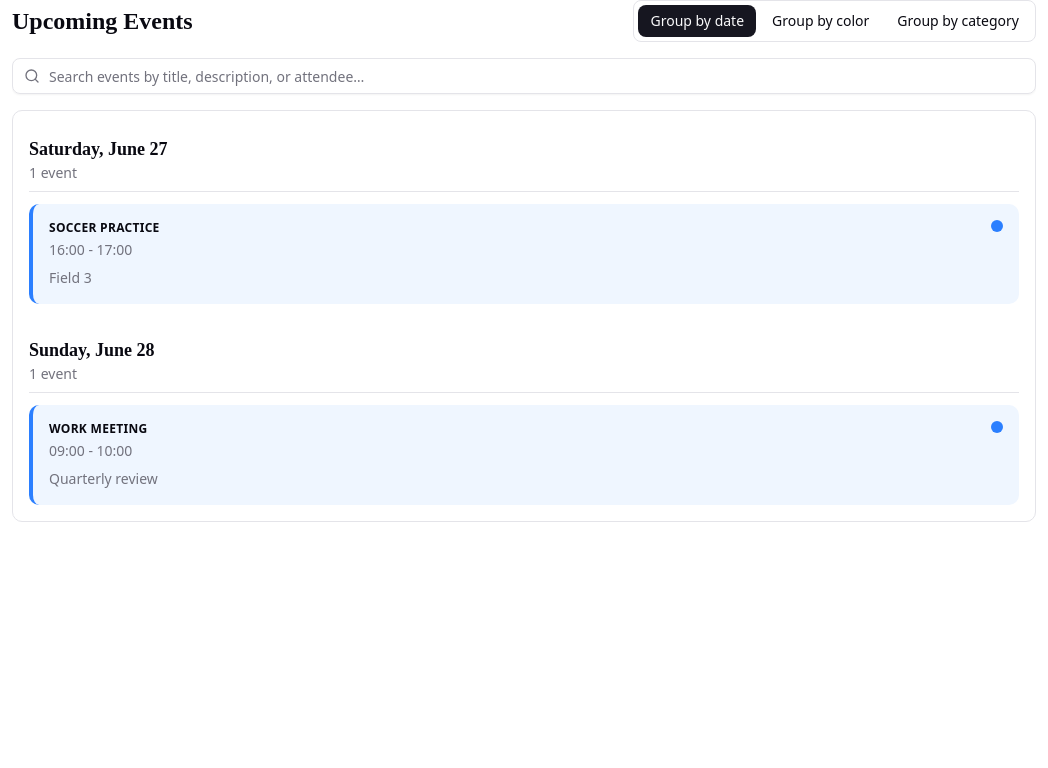
Test: AgendaCalendar › Search › matches against the attendee (user) name
Type "emma" into the search field with placeholder "Search events by title, description, or attendee…" at (524, 76), box [12,58,1036,94]
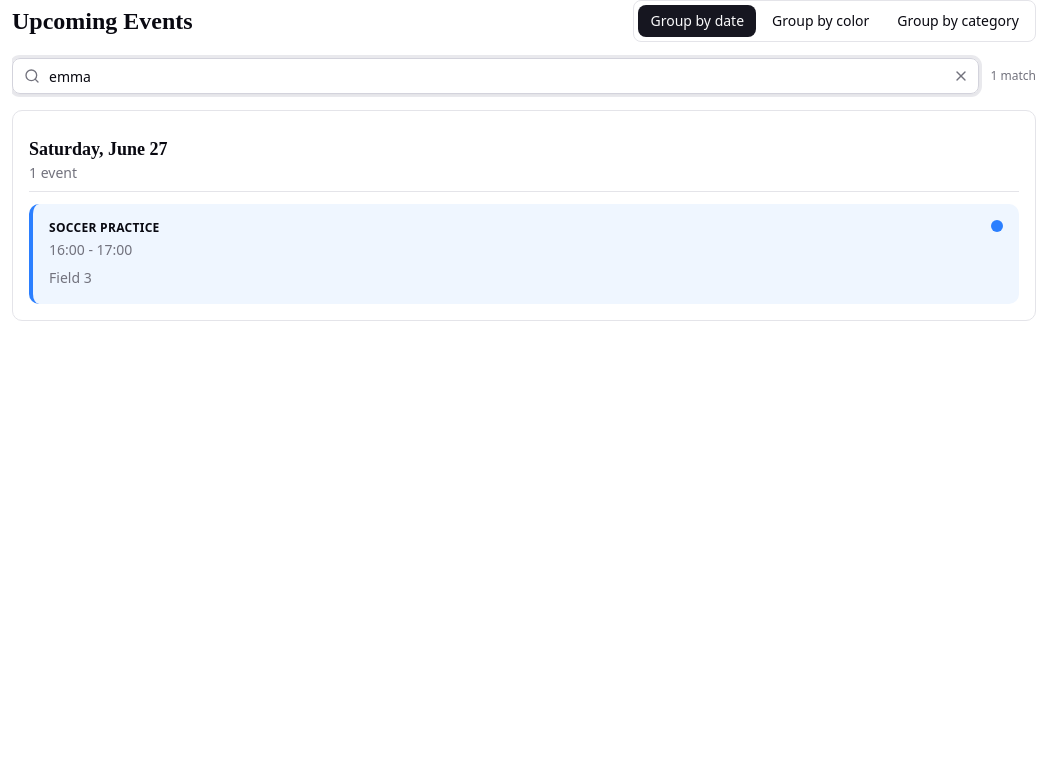
Expected: the heading "Soccer Practice" is shown, [49,219,160,236]
Expected: the button "Work Meeting" is gone
